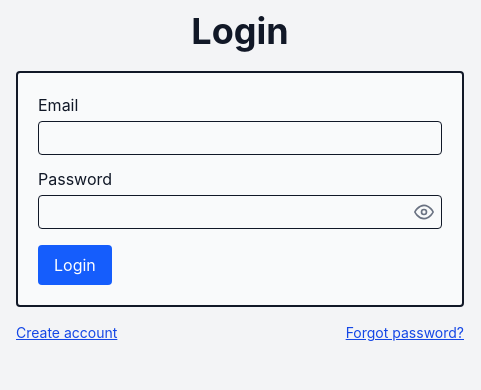
Test case: Login › shows error when login fails
Type "test@example.com" into the field labelled "Email".
click(240, 138); type("test@example.com")  # box [38,121,442,155]
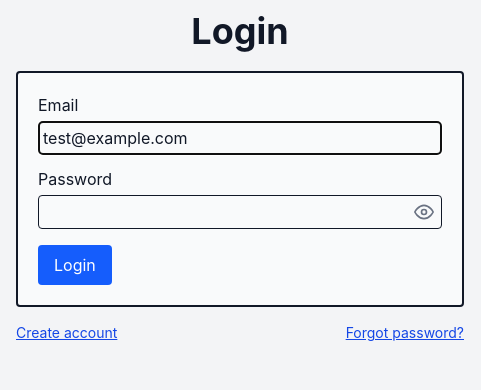
Type "wrongpassword" into the password field labelled "Password".
click(240, 212); type("wrongpassword")  # box [38,195,442,229]
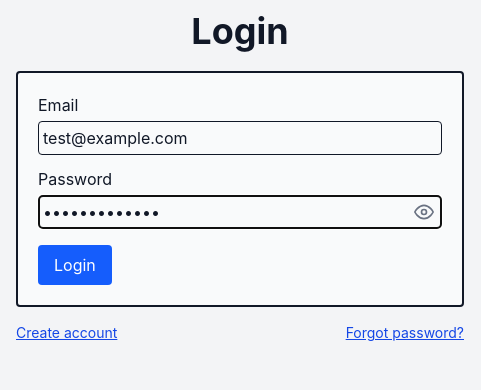
Click the button "Login".
click(75, 265)  # box [38,245,112,285]
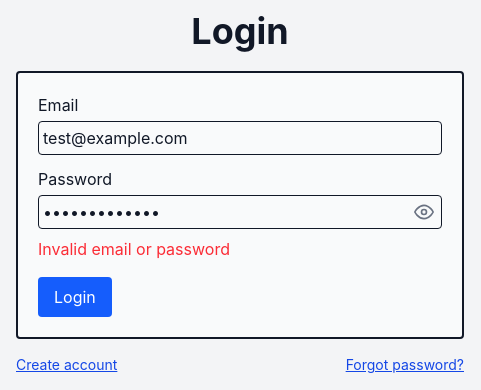
Check: the message reads "Invalid email or password", box [38,239,230,259]
